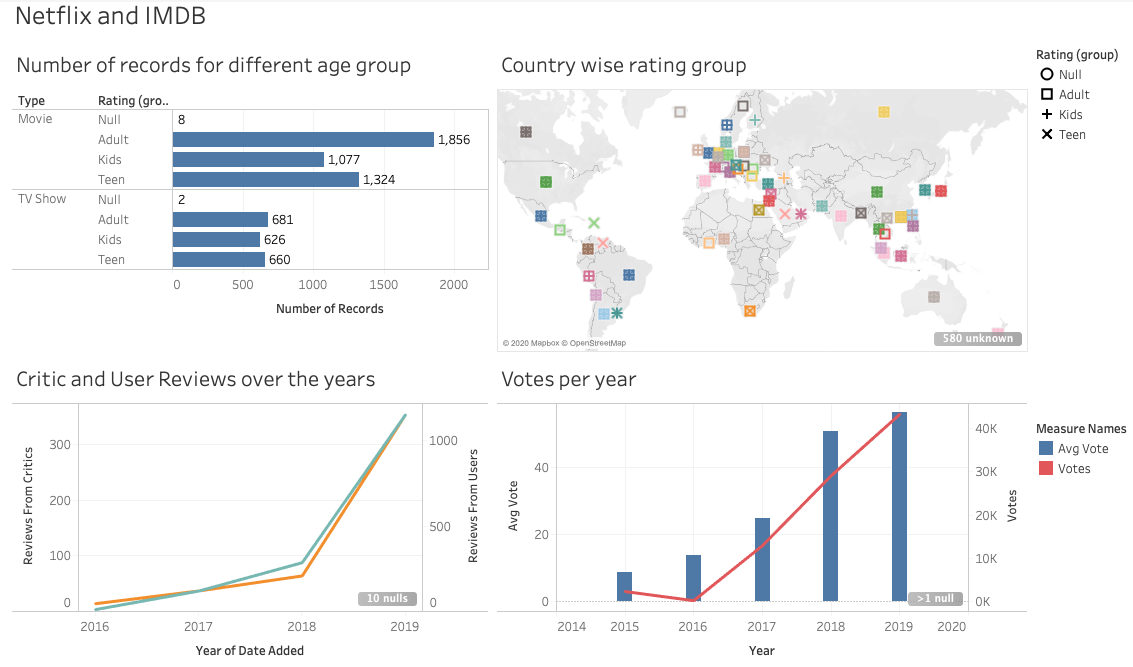

The page's visual inventory and layout, read from the dashboard file:
{"tool":"tableau","page":{"name":"Dashboard 1","canvas":[1200,700],"ordinal":0},"visuals":[{"type":"title","box":[8,8,1184,44]},{"type":"worksheet","title":"Sheet 1","mark":"Bar","rows":["suicides_no"],"cols":["year"],"box":[8,52,575.6,351]},{"type":"worksheet","title":"Sheet 2","mark":"Automatic","rows":["suicides_no"],"cols":["age"],"box":[583.6,52,216,351]},{"type":"worksheet","title":"Sheet 4","mark":"Circle","box":[799.6,52,392.4,257]},{"type":"worksheet","title":"Sheet 3","mark":"Automatic","rows":["sex","suicides_no"],"box":[799.6,309,392.4,94]},{"type":"worksheet","title":"Sheet 5","mark":"Automatic","box":[8,403,477,289]},{"type":"worksheet","title":"Sheet 6","mark":"Shape","rows":["suicides_no"],"cols":["generation"],"box":[485,403,372.2,289]},{"type":"worksheet","title":"Sheet 7","mark":"Automatic","rows":["gdp_per_capita ($)"],"cols":["Gdp Per Capita ($) (bin)"],"box":[857.1,403,334.9,289]}]}

Visuals, with their boxes in screenshot pixels (x1, y1, x2, y2), scaled from the page's 1200x700 canvas onto the 1133x667 screenshot:
title: box=[8, 8, 1125, 50]
"Sheet 1" worksheet (Bar marks): box=[8, 50, 551, 384]
"Sheet 2" worksheet: box=[551, 50, 755, 384]
"Sheet 4" worksheet (Circle marks): box=[755, 50, 1125, 294]
"Sheet 3" worksheet: box=[755, 294, 1125, 384]
"Sheet 5" worksheet: box=[8, 384, 458, 659]
"Sheet 6" worksheet (Shape marks): box=[458, 384, 809, 659]
"Sheet 7" worksheet: box=[809, 384, 1125, 659]
